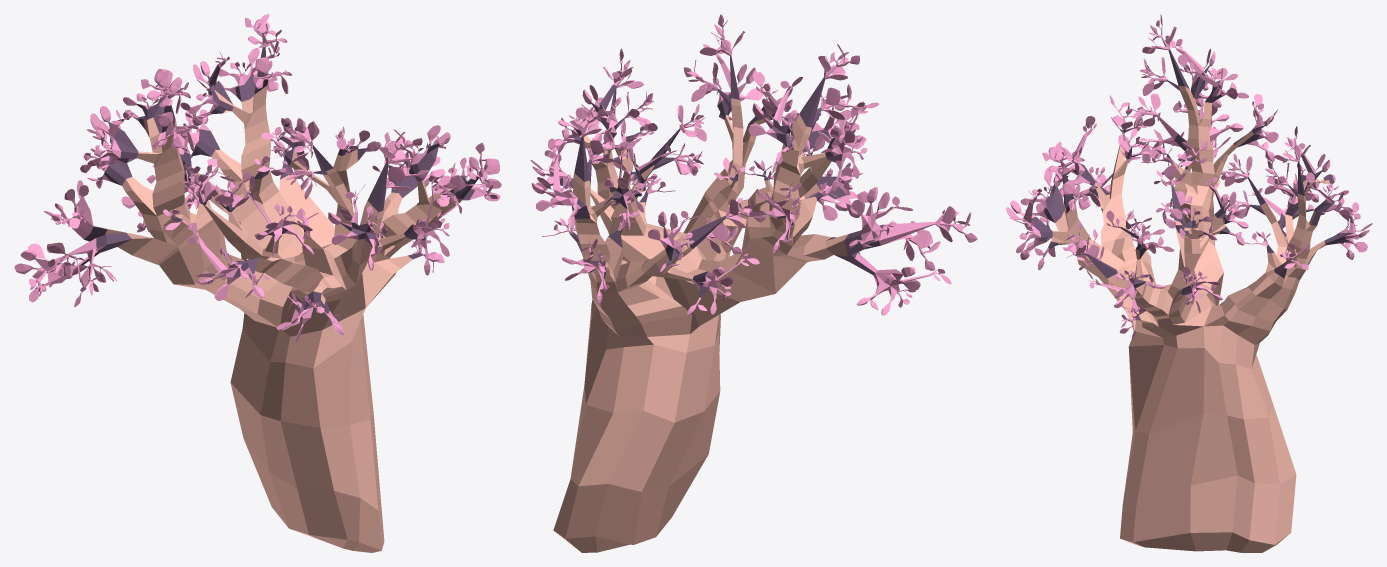
The model's file is tree_1.fbx.
3 views of the same model, side by side, from view 1: azimuth 30°, elevation 25°; view 2: azimuth 150°, elevation 25°; view 3: azimuth 270°, elevation 25° (orthographic). The views are drawn at different scales.
Visible parts, largest first — view 1: Plane; view 2: Plane; view 3: Plane.
Boxes of the visible parts, x1,y1,x2,y2 form: Plane: (14, 14, 501, 552); Plane: (530, 14, 977, 552); Plane: (1006, 14, 1372, 552).
Bounding box in the file's own units: 234 × 259 × 194.
